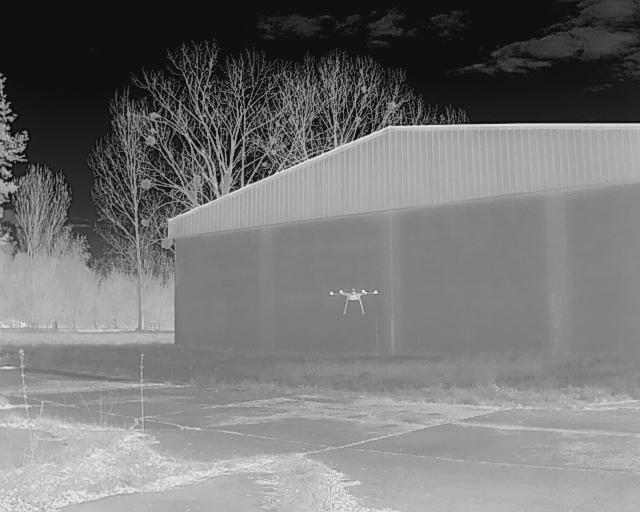drone: (326, 281, 384, 321)
